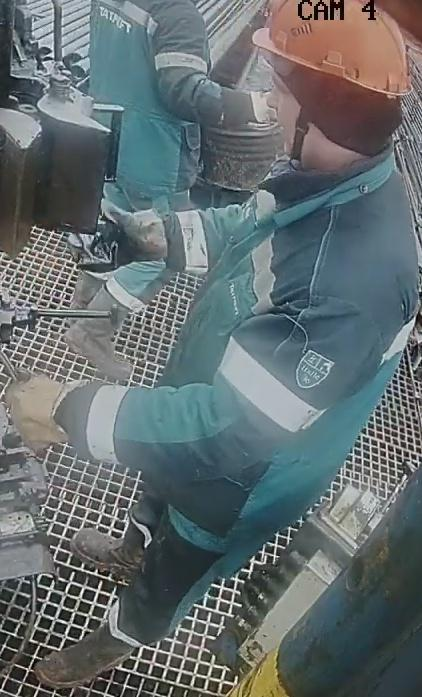gloves: (68, 201, 191, 279), (1, 369, 96, 464)
helmet: (250, 0, 413, 97)
vest: (143, 146, 420, 542), (86, 0, 209, 202)
